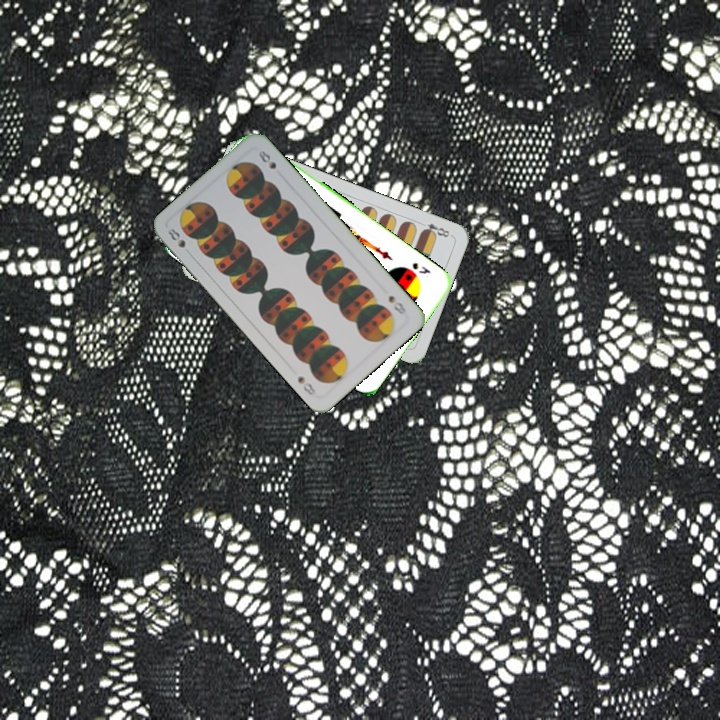E8: (416, 218, 454, 240)
S8: (384, 291, 409, 317), (164, 224, 188, 250)
SK: (408, 258, 433, 277)
